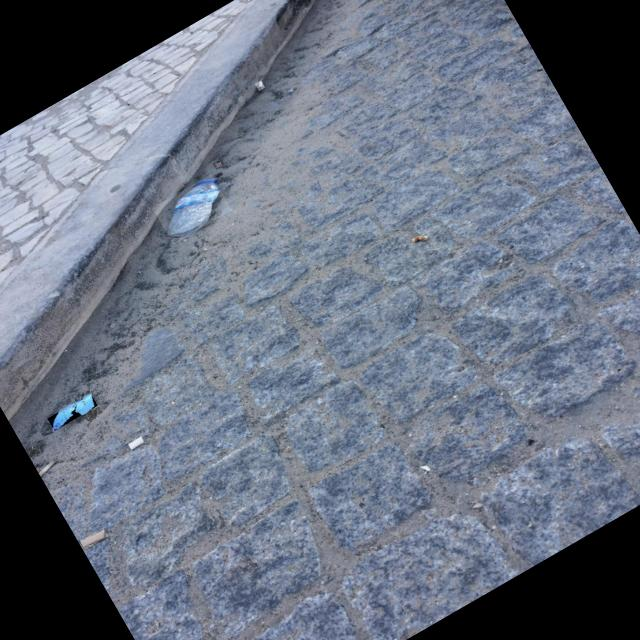Cigarette: (83, 530, 105, 548), (129, 437, 144, 450), (214, 163, 222, 169), (259, 81, 263, 89)
Clear plastic bottle: (168, 179, 220, 237)
Other plastic bottle: (53, 393, 96, 430)
